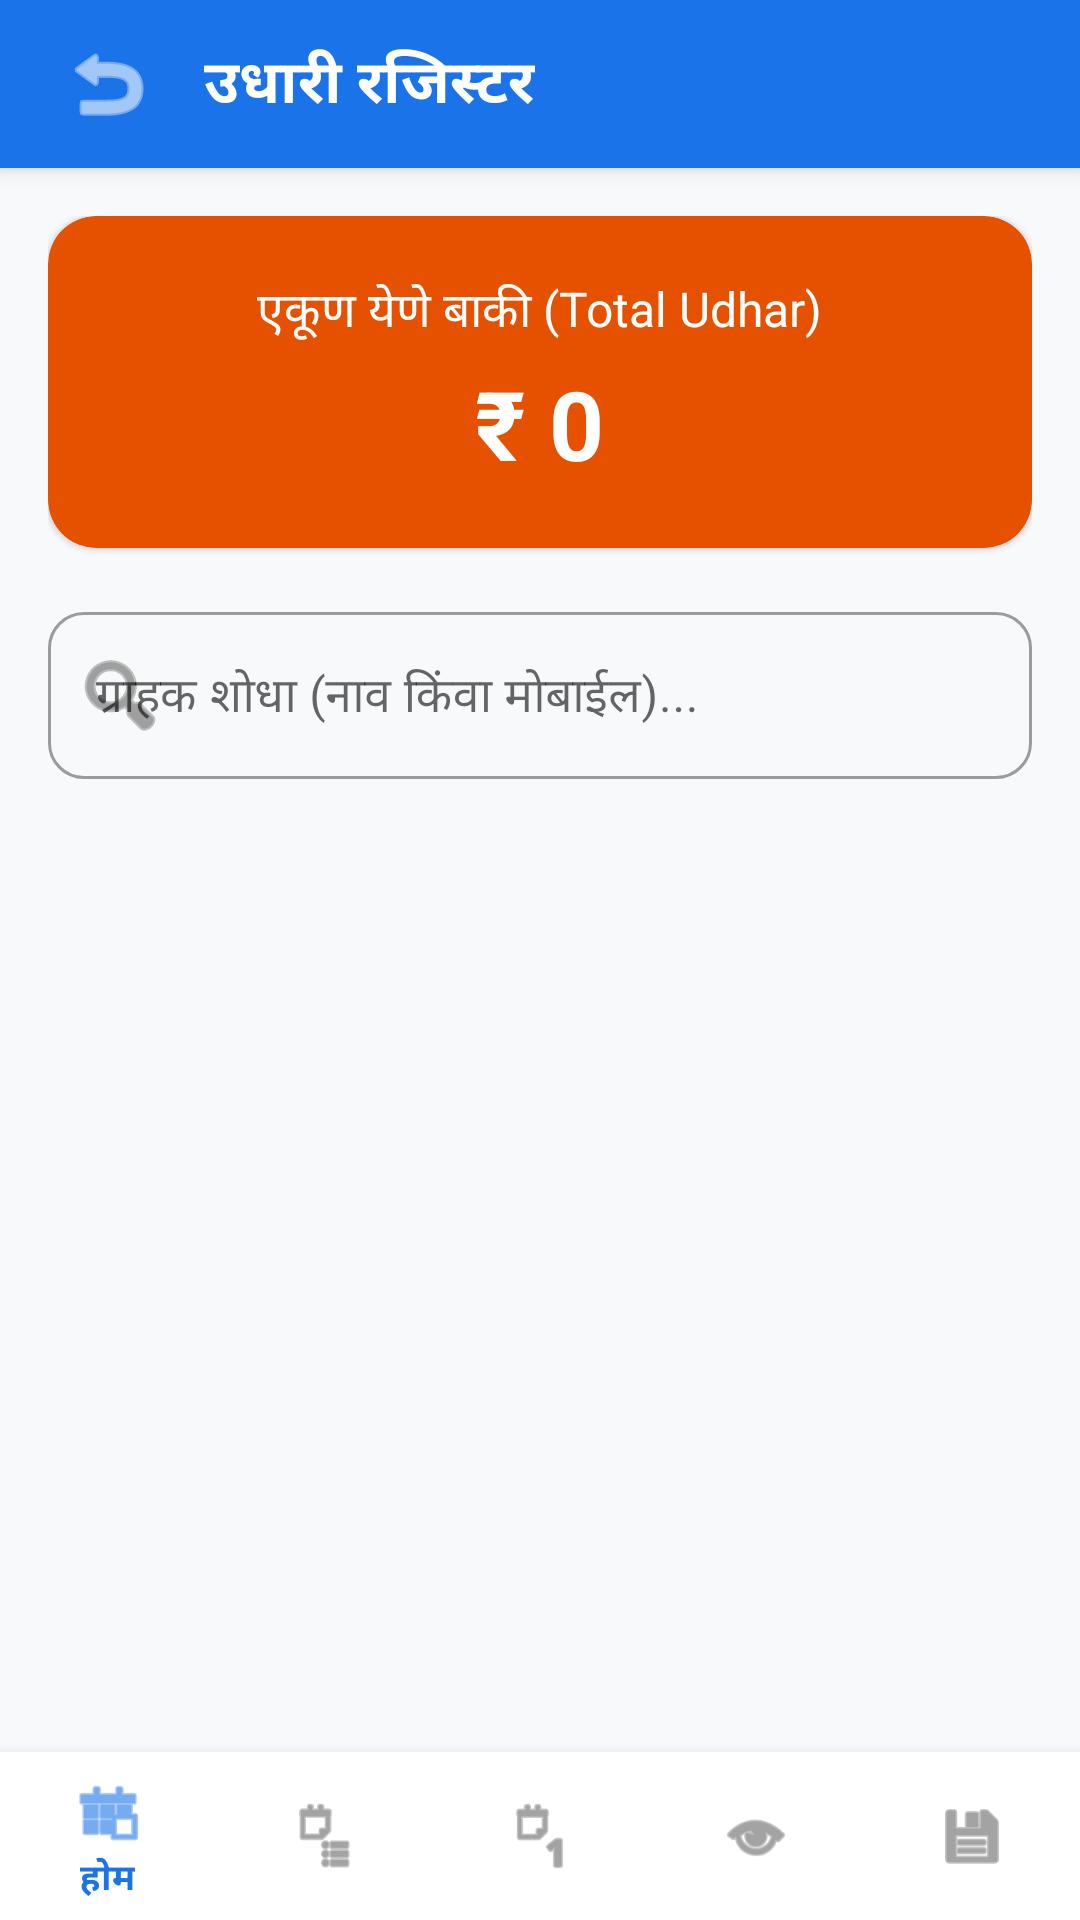

Icon bounding boxes for this 1080*1920 phone screenshot, format bbox=[x1, y1, x2, y2]:
revert: bbox=[75, 53, 144, 116]
